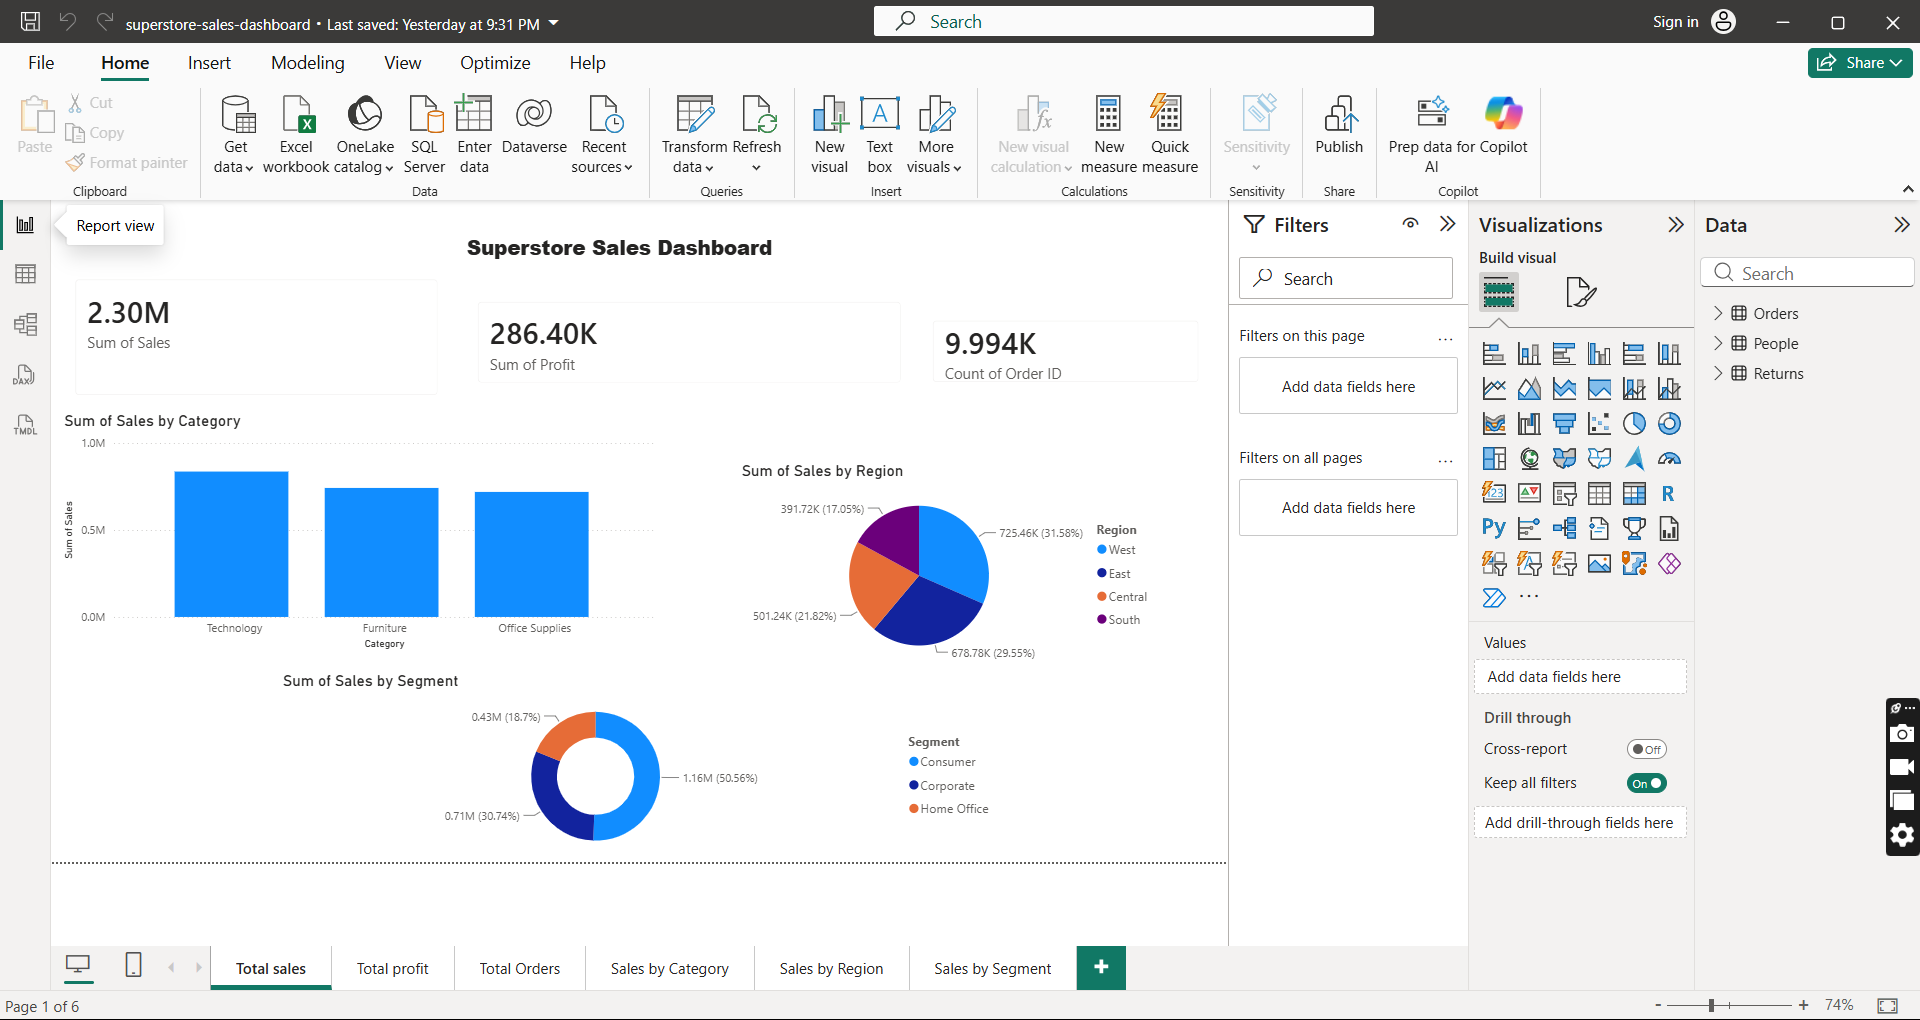

The dashboard page shown, as its layout file describes it:
{"tool":"powerbi","page":{"name":"Total sales","canvas":[1280,720],"ordinal":0},"visuals":[{"type":"cardVisual","fields":{"Data":["Sum(Orders.Sales)"]},"box":[9.5,69.3,428.1,160.4],"z":0},{"type":"cardVisual","fields":{"Data":["Sum(Orders.Profit)"]},"box":[447.1,93.8,494.7,122.3],"z":1},{"type":"cardVisual","fields":{"Data":["CountNonNull(Orders.Order ID)"]},"box":[941.9,114.2,323.5,101.9],"z":2},{"type":"clusteredColumnChart","fields":{"Category":["Orders.Category"],"Y":["Sum(Orders.Sales)"]},"box":[9.5,229.7,652.4,263.7],"z":3},{"type":"pieChart","fields":{"Category":["Orders.Region"],"Y":["Sum(Orders.Sales)"]},"box":[746.1,284.1,460.7,228.3],"z":4},{"type":"donutChart","fields":{"Category":["Orders.Segment"],"Y":["Sum(Orders.Sales)"]},"box":[247.4,512.4,786.9,207.9],"z":5},{"type":"textbox","box":[447.1,31.3,421.3,47.6],"z":6}]}

Visuals, with their boxes on the page's 1280x720 design canvas (x1, y1, x2, y2). These are canvas units, not pixel positions in the 1920x1020 screenshot, which may show the page scaled, cropped or inside an application window:
cardVisual - Sum(Orders.Sales): {"left": 10, "top": 69, "right": 438, "bottom": 230}
cardVisual - Sum(Orders.Profit): {"left": 447, "top": 94, "right": 942, "bottom": 216}
cardVisual - CountNonNull(Orders.Order ID): {"left": 942, "top": 114, "right": 1265, "bottom": 216}
clusteredColumnChart - Orders.Category x Sum(Orders.Sales): {"left": 10, "top": 230, "right": 662, "bottom": 493}
pieChart - Orders.Region x Sum(Orders.Sales): {"left": 746, "top": 284, "right": 1207, "bottom": 512}
donutChart - Orders.Segment x Sum(Orders.Sales): {"left": 247, "top": 512, "right": 1034, "bottom": 720}
textbox: {"left": 447, "top": 31, "right": 868, "bottom": 79}
